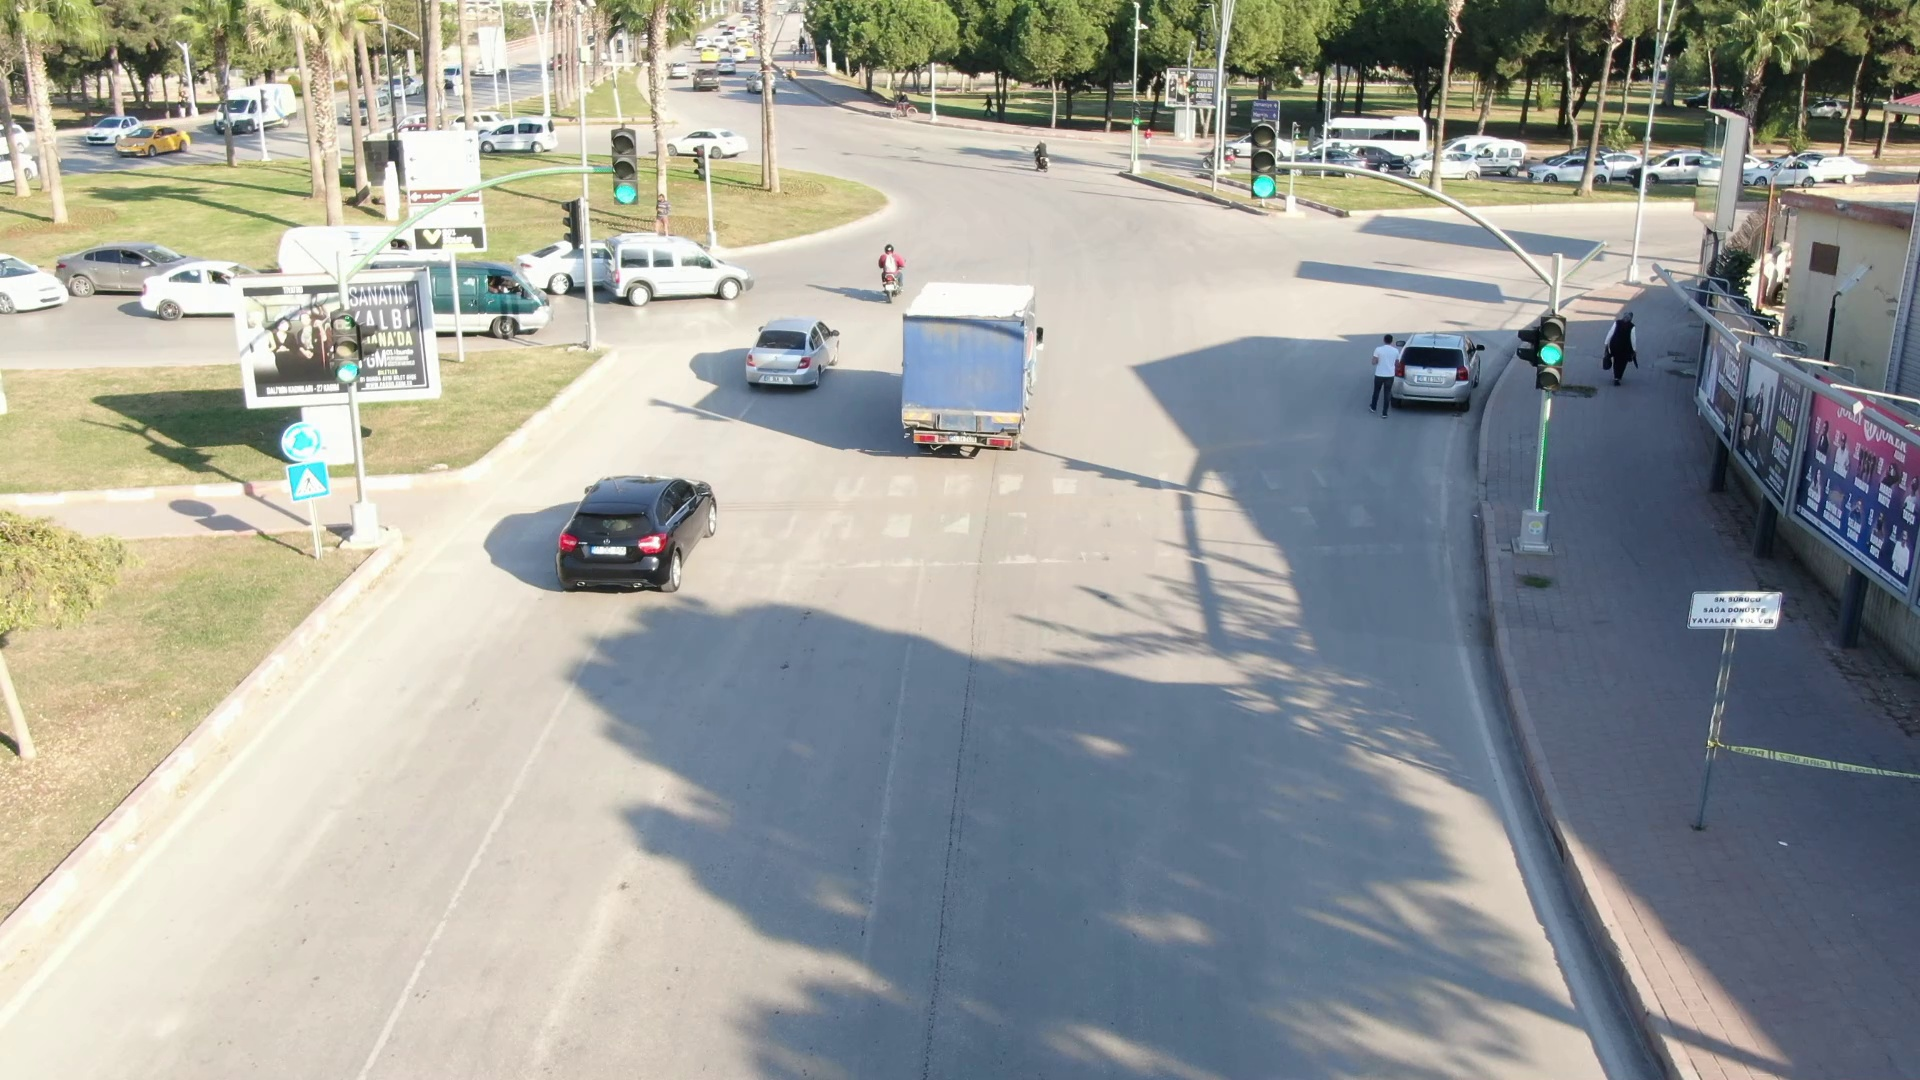car: (534, 456, 734, 606), (596, 222, 764, 309), (725, 299, 854, 402), (431, 256, 571, 349), (55, 222, 196, 310), (1505, 128, 1617, 194), (85, 99, 189, 160), (477, 110, 571, 160), (666, 124, 750, 162)
person: (1586, 300, 1655, 391), (1359, 325, 1408, 422)
